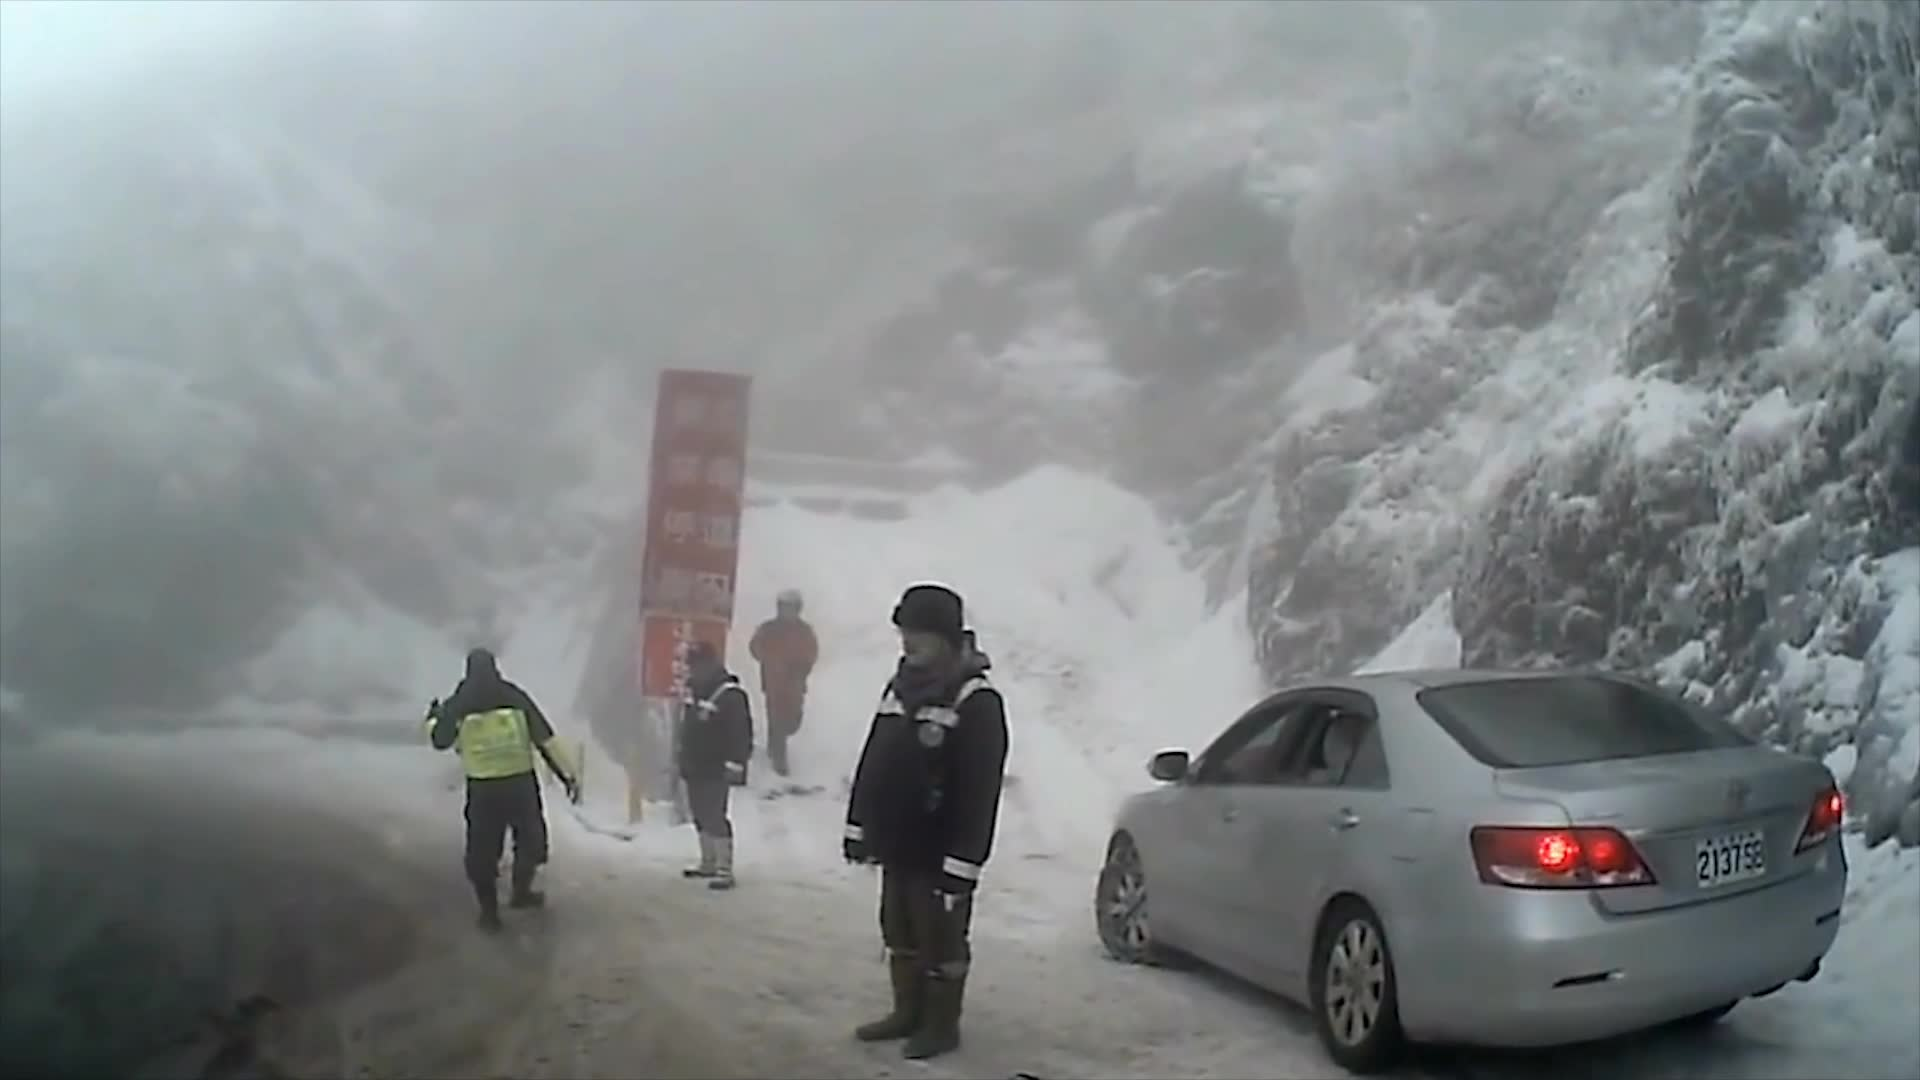pedestrian: (838, 586, 1009, 1067), (418, 653, 588, 936), (679, 642, 755, 891), (750, 588, 820, 774)
vehicle: (1095, 665, 1852, 1063)
